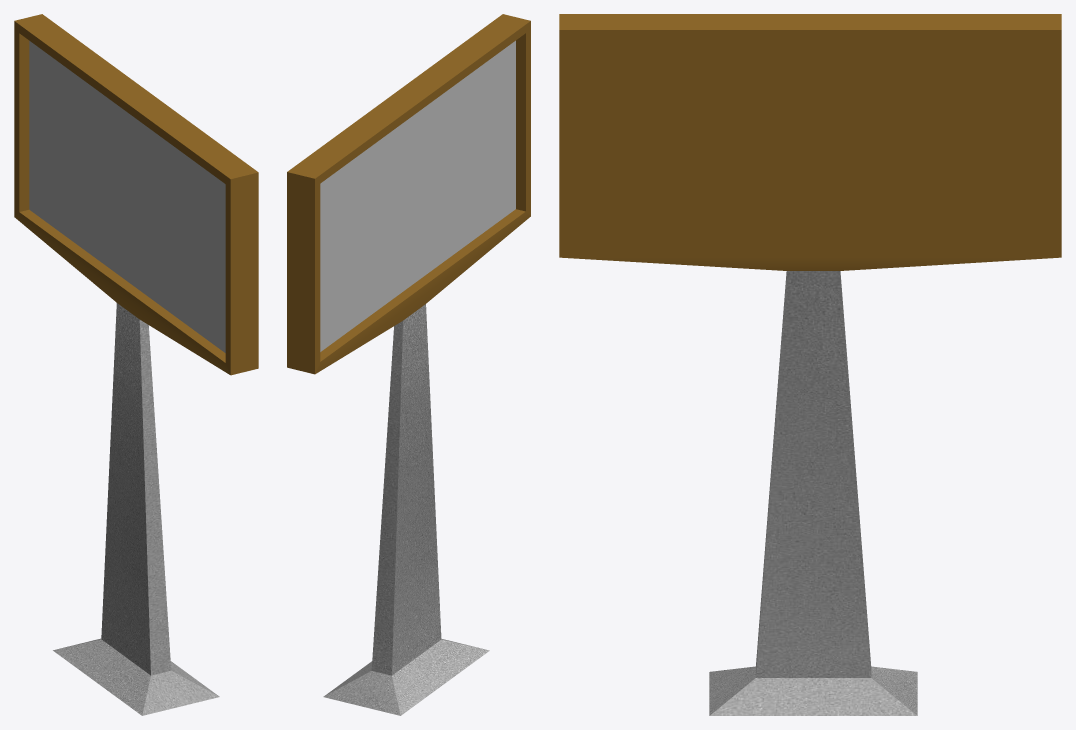
File: Cartel_Informativo.fbx
3 views of the same model, side by side, from view 1: azimuth 30°, elevation 25°; view 2: azimuth 150°, elevation 25°; view 3: azimuth 270°, elevation 25° (orthographic). The views are drawn at different scales.
Visible parts, largest first — view 1: Cartel; view 2: Cartel; view 3: Cartel.
Part boxes in pixels (<box>): Cartel: <box>14,14,258,715</box>; Cartel: <box>287,14,530,715</box>; Cartel: <box>559,14,1061,715</box>.
Bounding box in the file's own units: 0.831 × 5.9 × 4.
